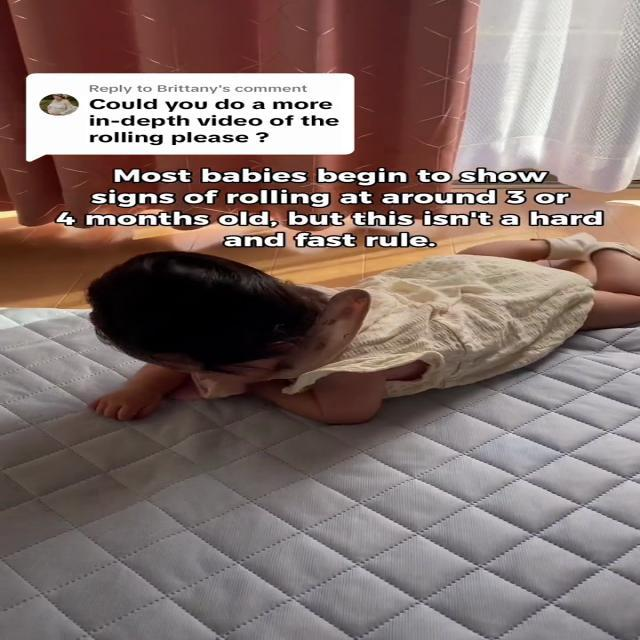baby: (87, 225, 640, 431)
